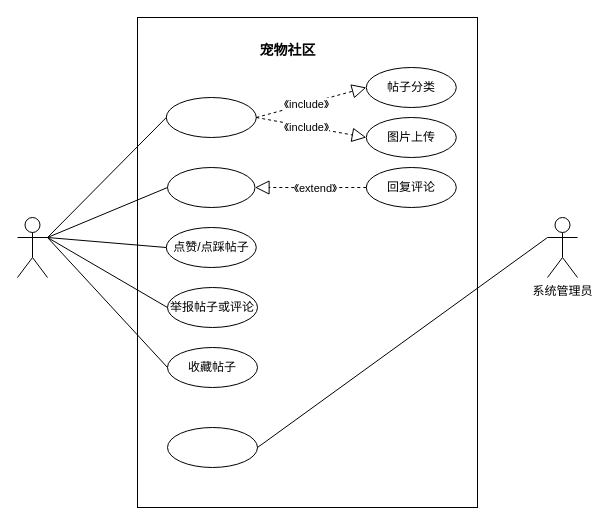
Image size: 610x525. Some labels were removed from this diagram. The shapes that lost their labels are listed below. From the top down, each one's box as (x1, y1, x2, y2) in pixels, then its label:
(165, 96, 256, 138): 发布帖子
(166, 166, 255, 208): 评论帖子
(16, 216, 48, 278): 用户
(166, 426, 258, 468): 置顶帖子
